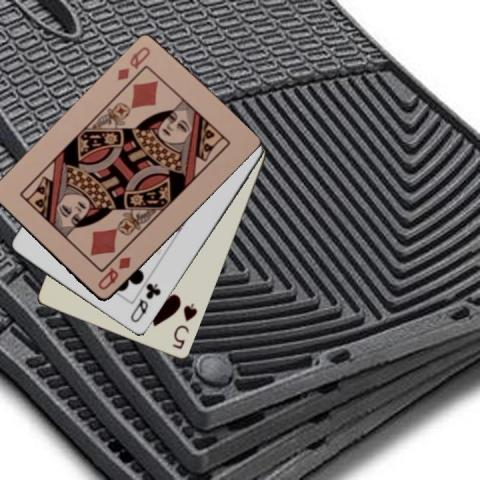5s: (170, 300, 200, 351)
Qc: (127, 281, 163, 324)
Qd: (114, 44, 152, 83), (94, 254, 132, 292)
